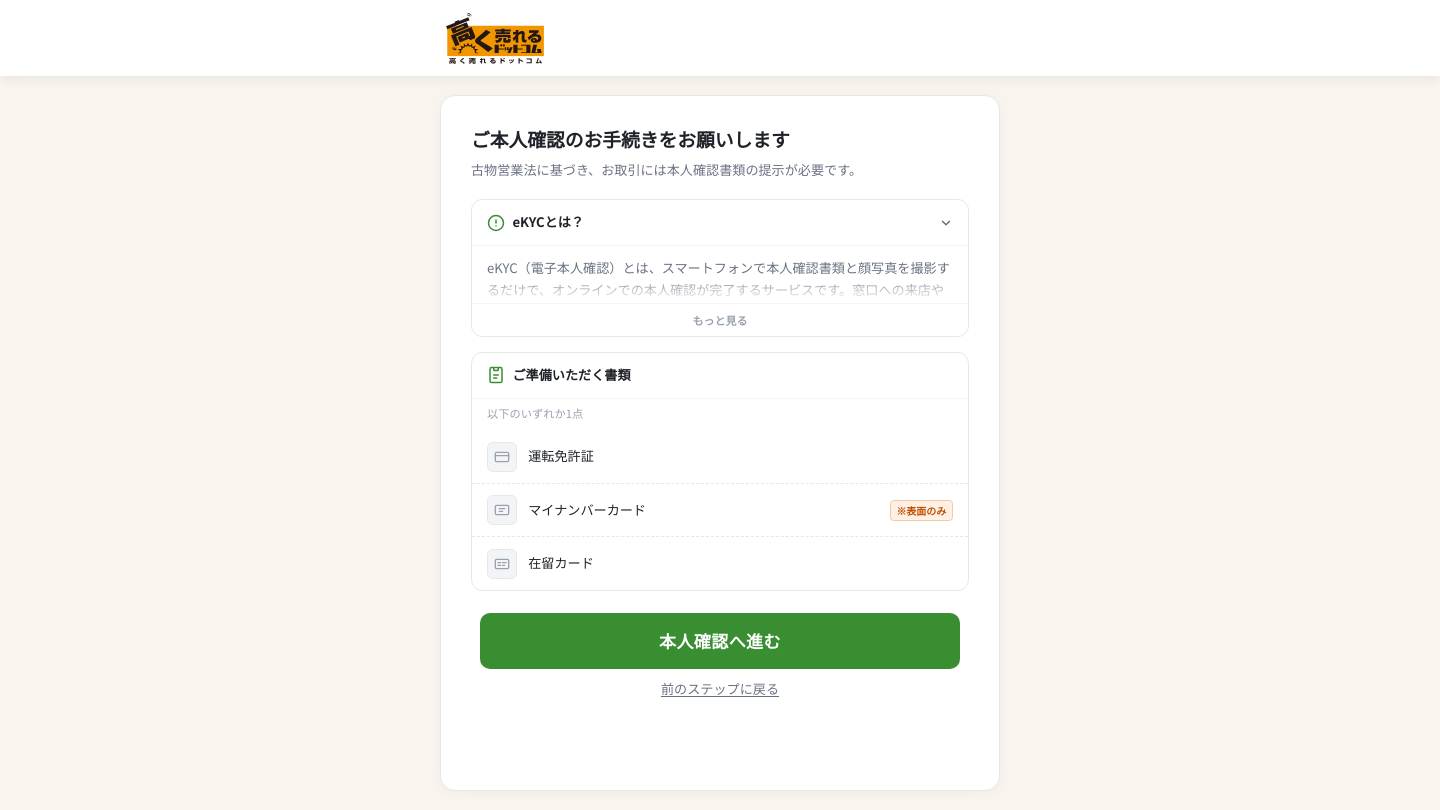
Test: StepEkycIntro › eKYCとは？ expands on toggle click and shows 閉じる
The image size is (1440, 810).
Click the button "もっと見る".
click(720, 319)  # box [472,303,968,336]
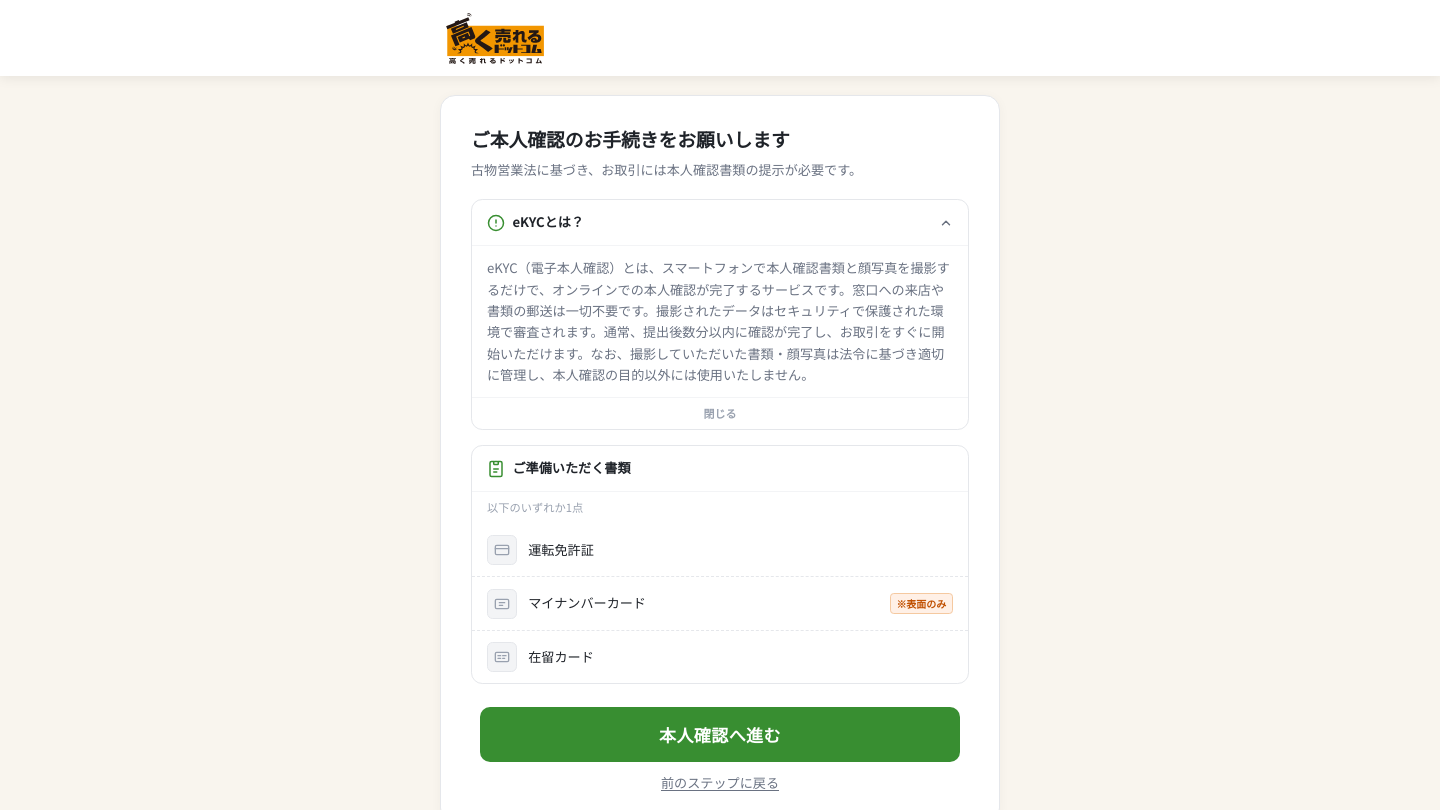
Result: the button "閉じる" is shown at [472,397,968,429]
Result: the button "もっと見る" is gone
